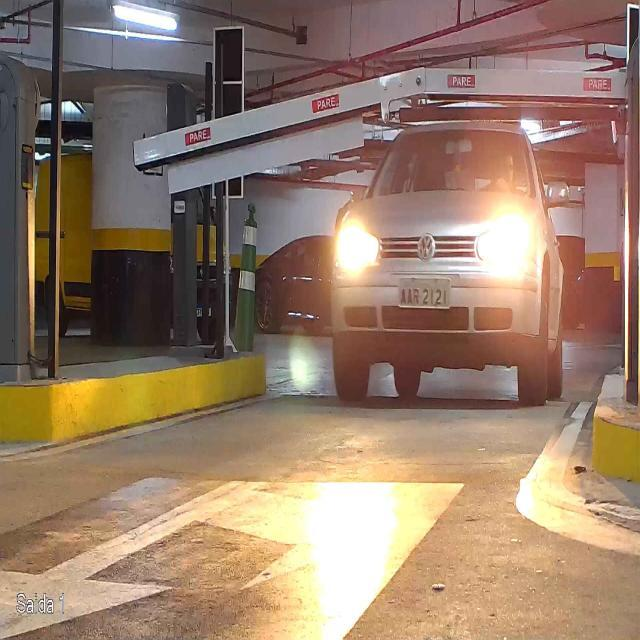old_plate: (395, 276, 454, 311)
